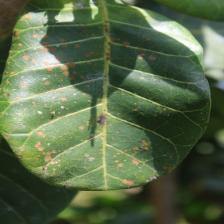red rust: (0, 0, 211, 191)
